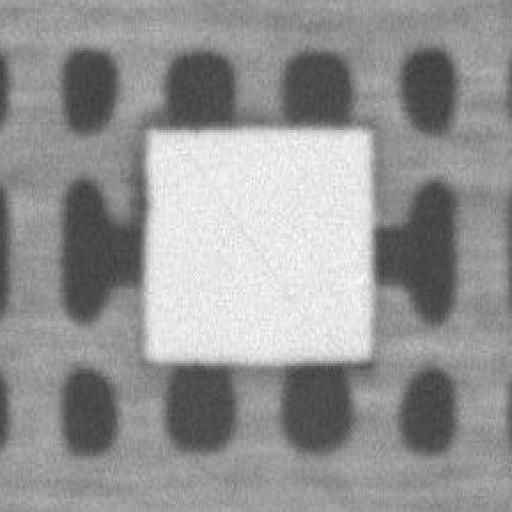DIE_CRACK: (276, 98, 467, 220)
